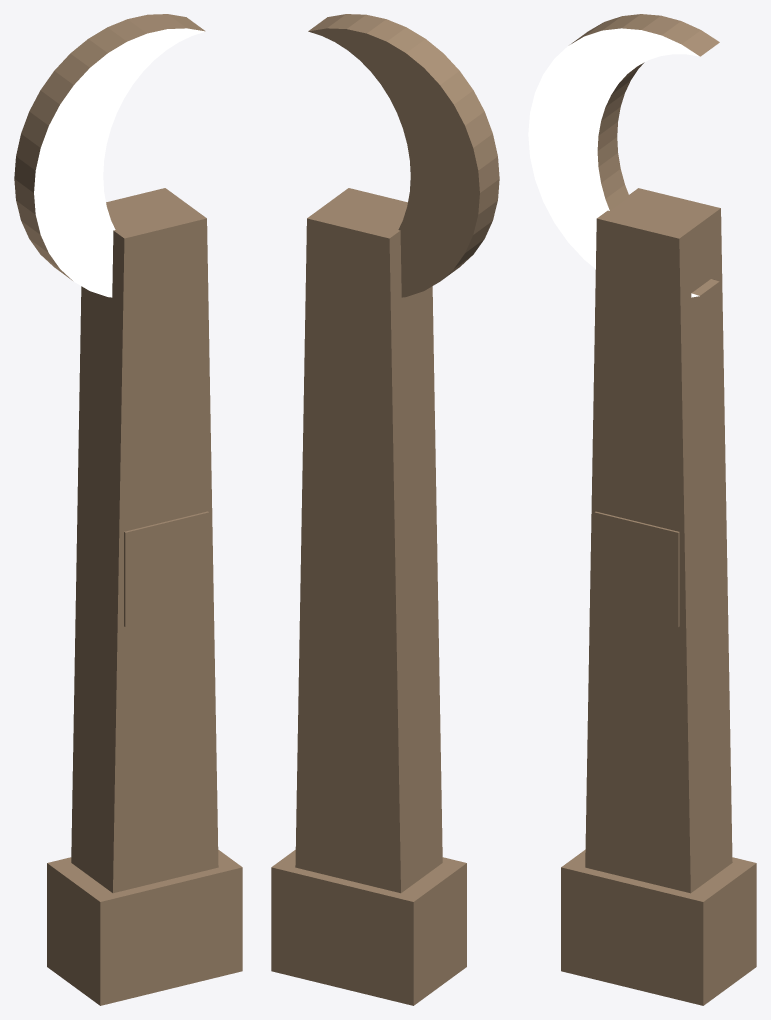
The model's file is moon.glb.
3 renders of one model, left to right at view 1: azimuth 30°, elevation 25°; view 2: azimuth 150°, elevation 25°; view 3: azimuth 330°, elevation 25°, orthographic.
Visible parts, largest first — view 1: moon-totem; view 2: moon-totem; view 3: moon-totem.
Part boxes in pixels (box(x1,y1,x2,y2)): moon-totem: box(14, 14, 242, 1005); moon-totem: box(271, 14, 499, 1005); moon-totem: box(528, 14, 756, 1005).
Size of the model in its own units: 0.2869 by 1.35 by 0.138.
